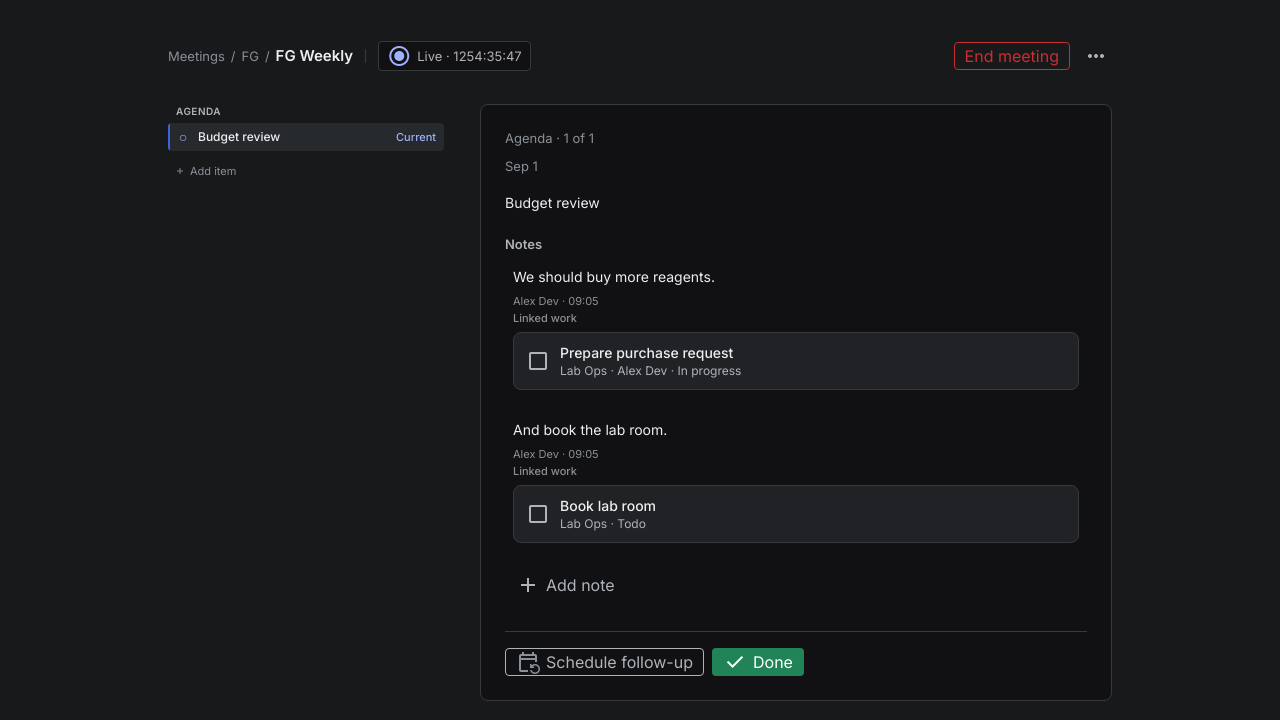
Test: Meeting Inspector stale PATCH response reconciliation › does not let a queued PATCH initiated under a superseded selection adopt the reopened Work Item generation when it finally starts
Check: the button "End meeting" is shown, box [954,42,1070,70]
Click the button "Prepare purchase request Lab Ops · Alex Dev · In progress" at x=647, y=352, box [513,332,1079,390]
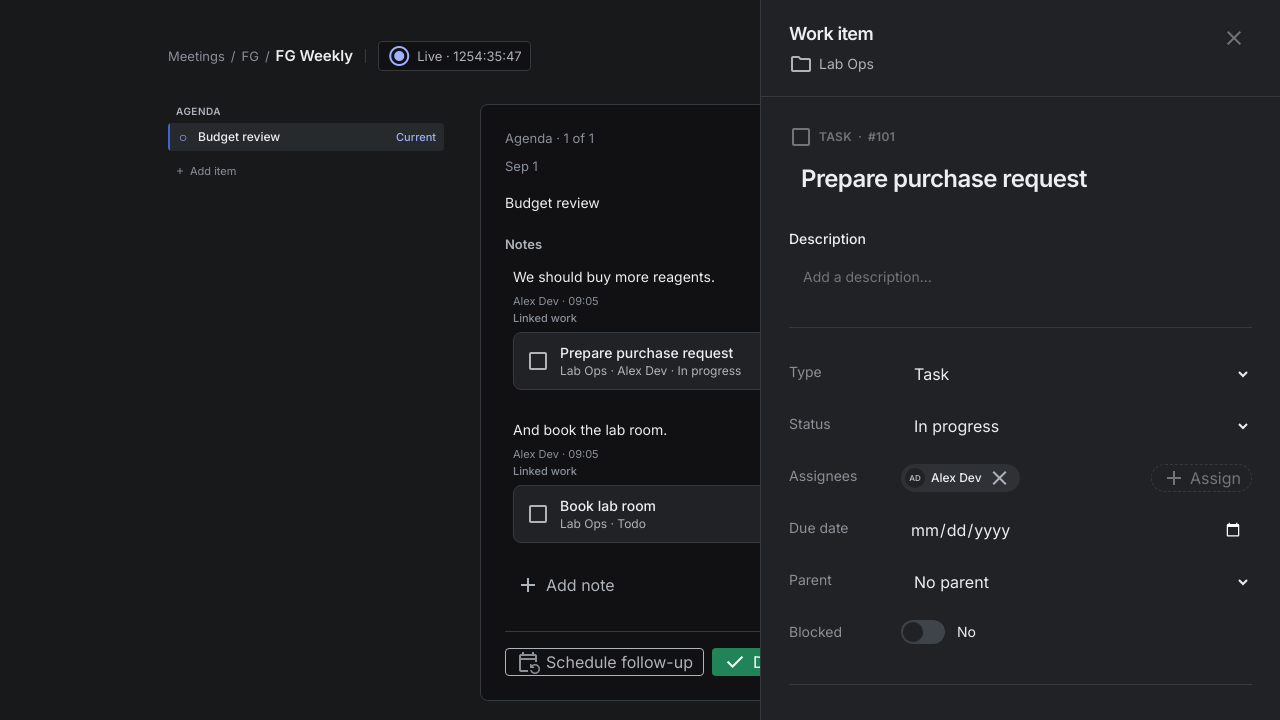
Check: the element "Work item" is shown, box [760,0,1279,719]
Check: the button "Prepare purchase request" is shown, box [801,164,1087,193]
Check: the dropdown named "Status" shows "In progress"
Select "Todo" in the dropdown named "Status" at x=1076, y=426, box [901,408,1252,444]
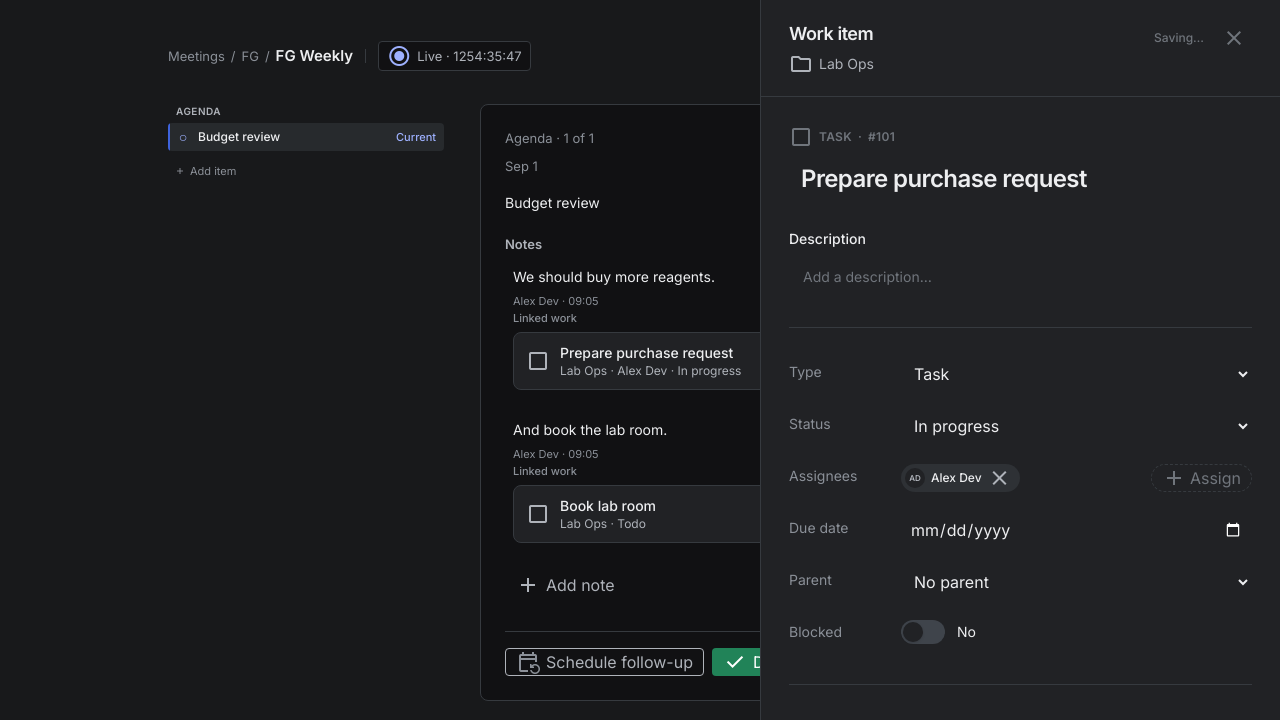
Click the button "Prepare purchase request" at x=944, y=178, box [801,164,1087,193]
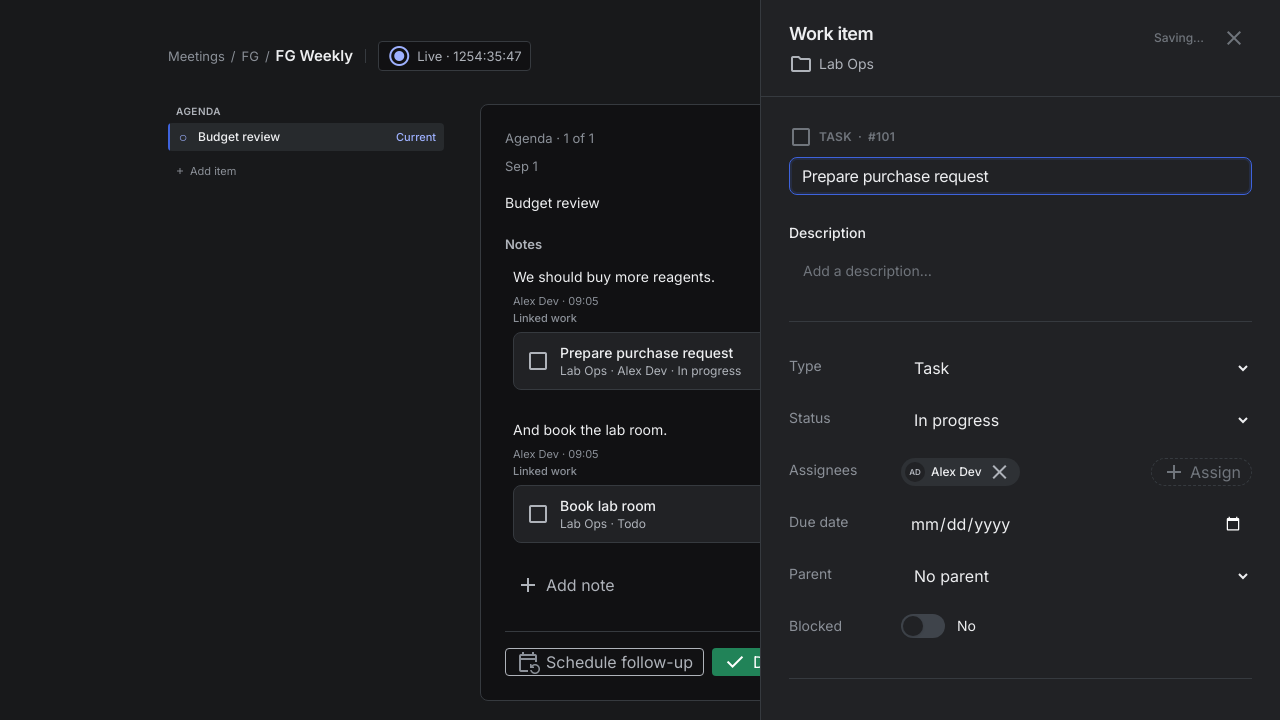
Replace the text in the field named "Work item title" with "Prepare purchase request (renamed)" at x=1020, y=176, box [789,157,1252,195]
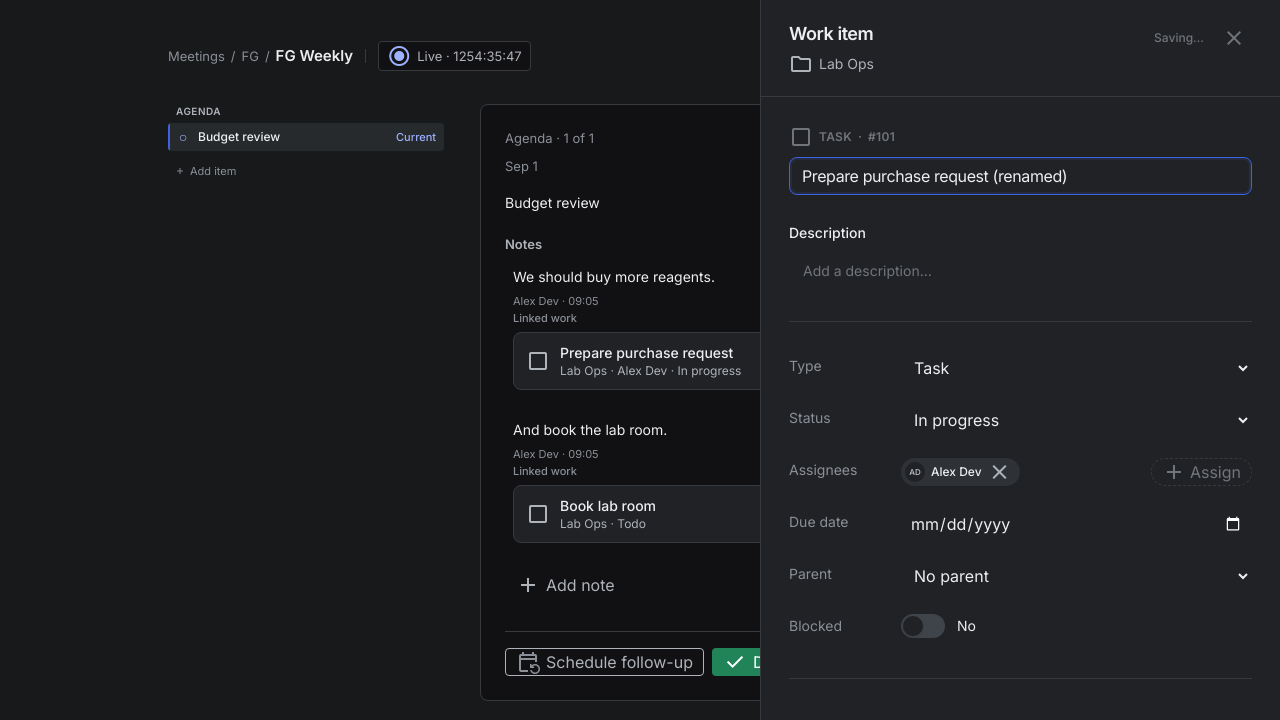
Click the button "Book lab room Lab Ops · Todo" at x=608, y=506, box [513,485,1079,543]
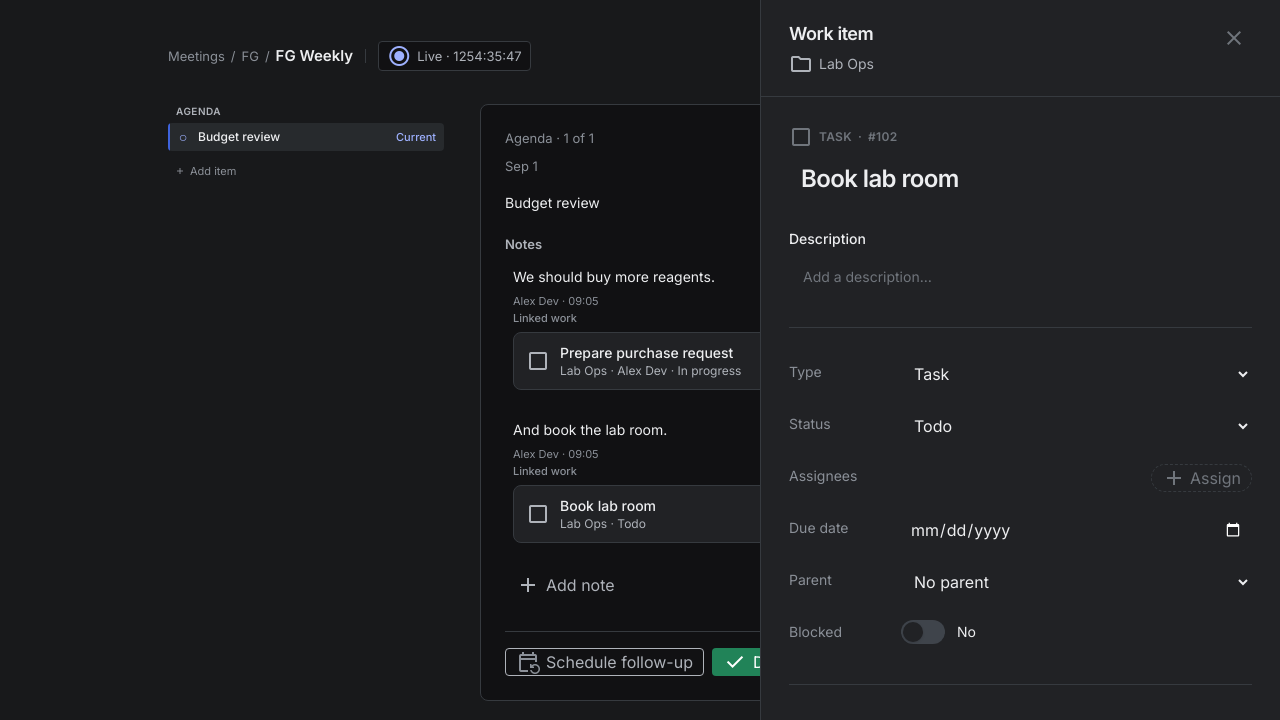
Check: the button "Book lab room" is shown, box [801,164,959,193]
Click the button "Prepare purchase request Lab Ops · Alex Dev · In progress" at x=647, y=352, box [513,332,1079,390]
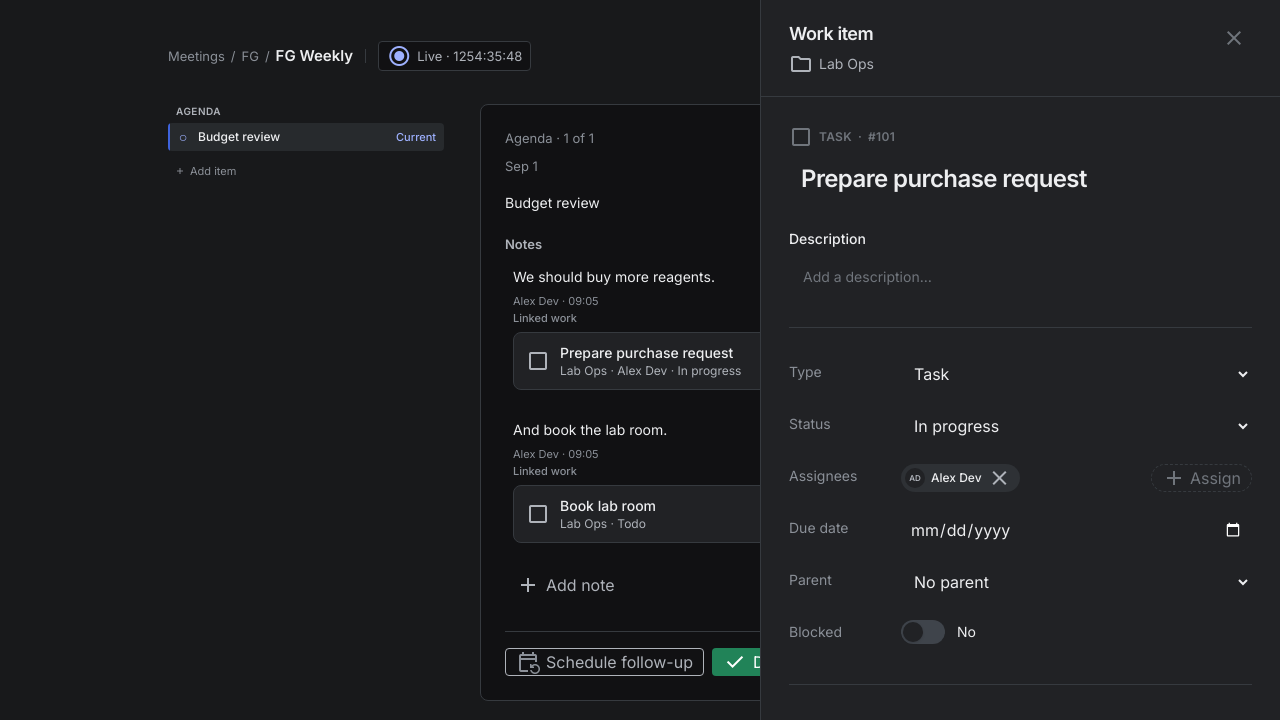
Check: the button "Prepare purchase request (renamed)" is not shown
Check: the button "Prepare purchase request" is shown, box [801,164,1087,193]
Check: the dropdown named "Status" shows "In progress", box [901,408,1252,444]
